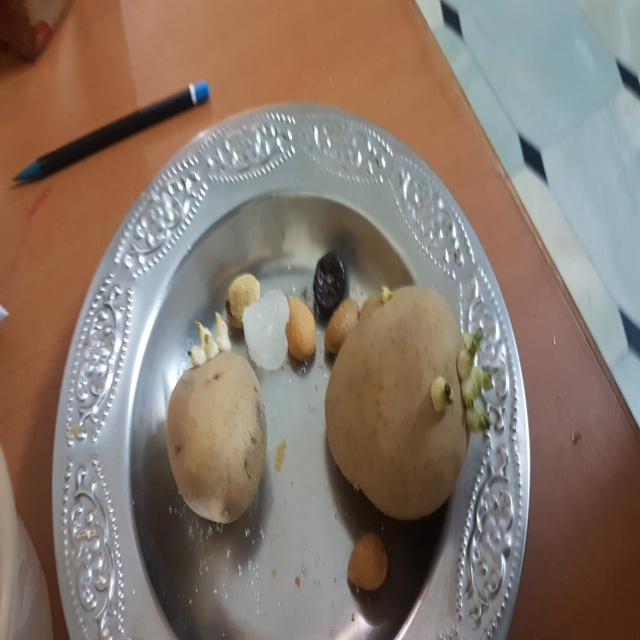potato: (321, 286, 516, 522), (146, 315, 283, 537)
